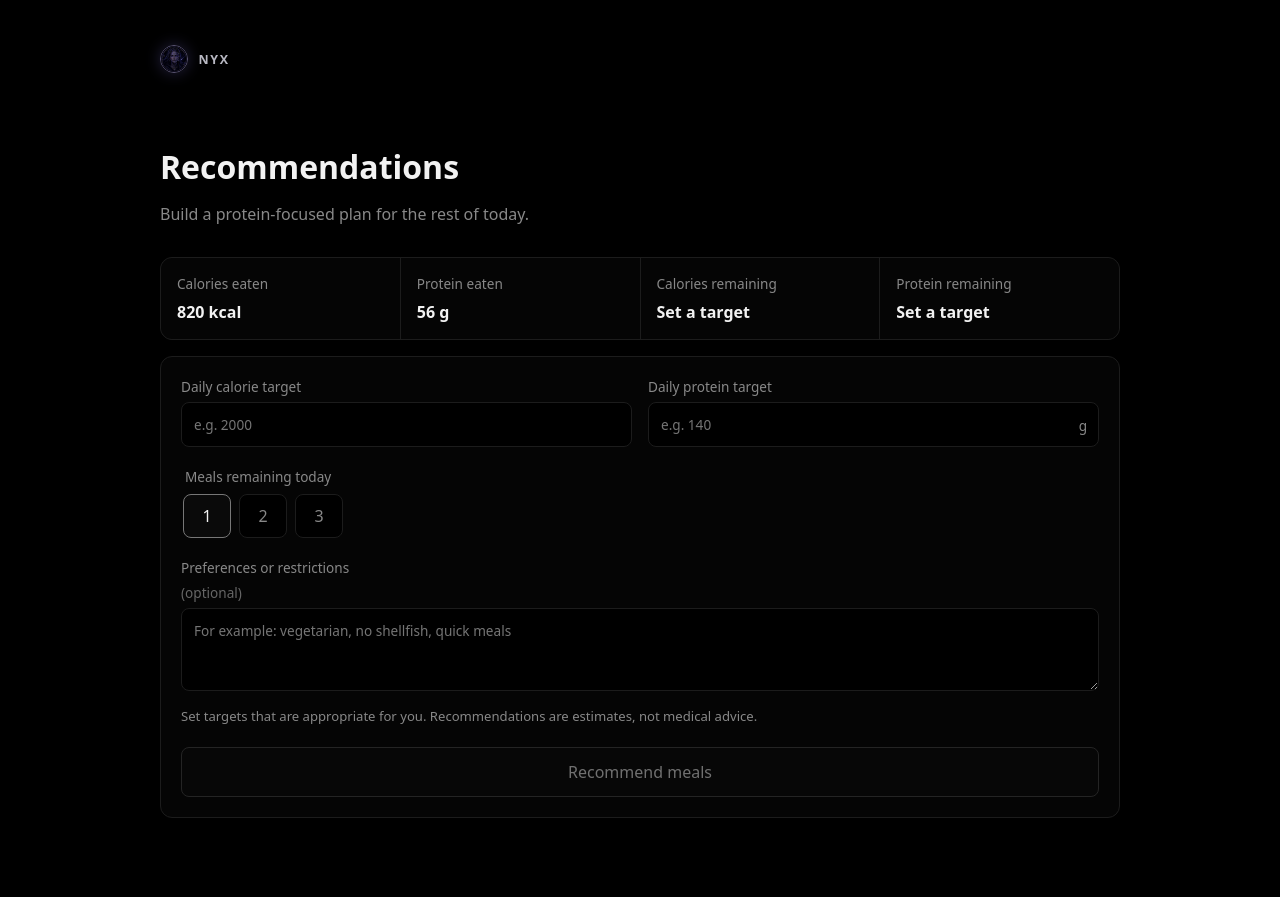
Test: RecommendationsPage › uses provider metadata for credential errors and links to Account
The image size is (1280, 897).
Expected: the text "820 kcal" is shown, x1=177 y1=301 x2=241 y2=323
Type "1800" into the number field labelled "Daily calorie target". click: {"x": 406, "y": 425}
box: x1=181 y1=402 x2=632 y2=447
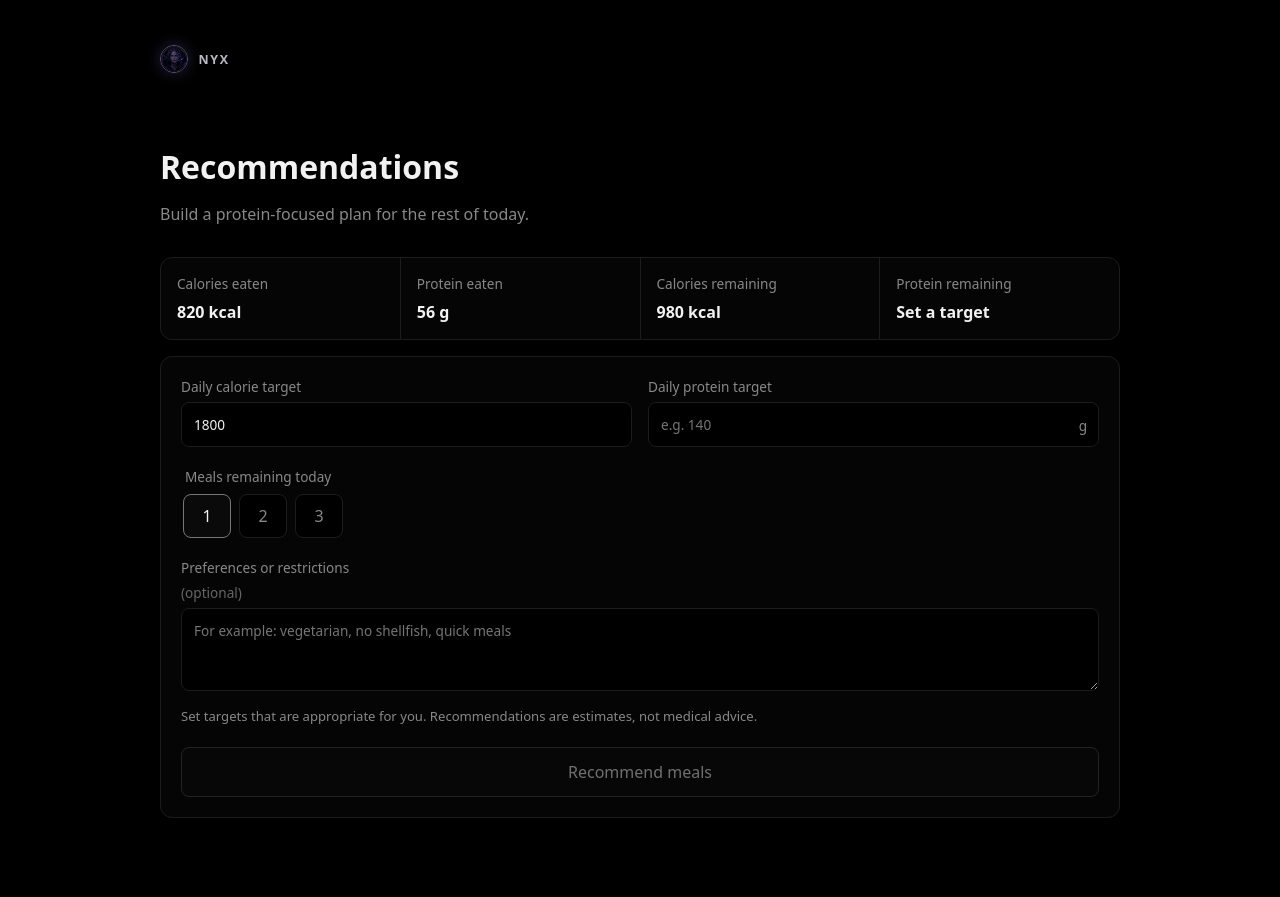
Type "140" into the number field labelled "Daily protein target g". click: {"x": 874, "y": 425}
box: x1=648 y1=402 x2=1099 y2=447
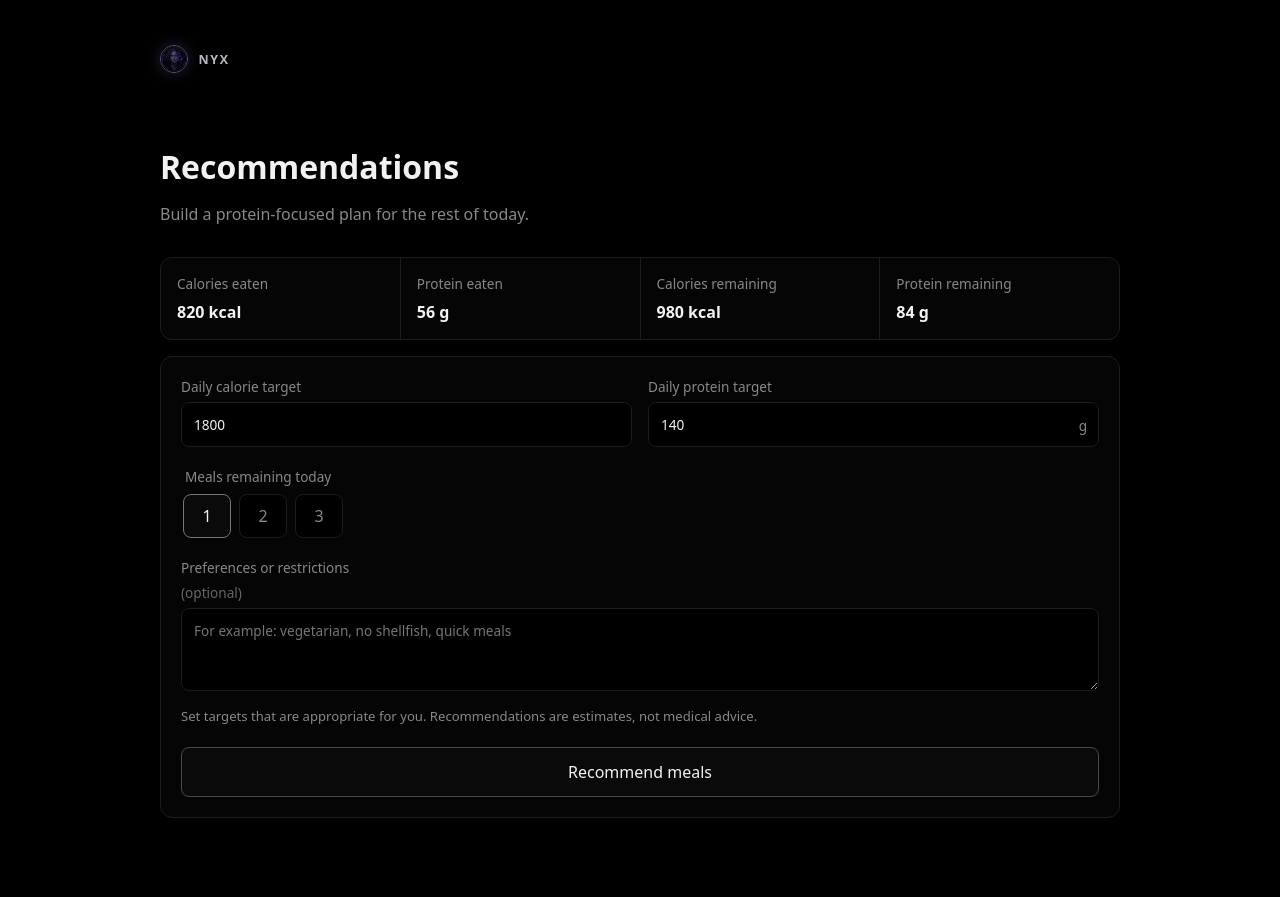
Click the button "Recommend meals". click: {"x": 640, "y": 772}
box: x1=181 y1=747 x2=1099 y2=797
(page scrolled)
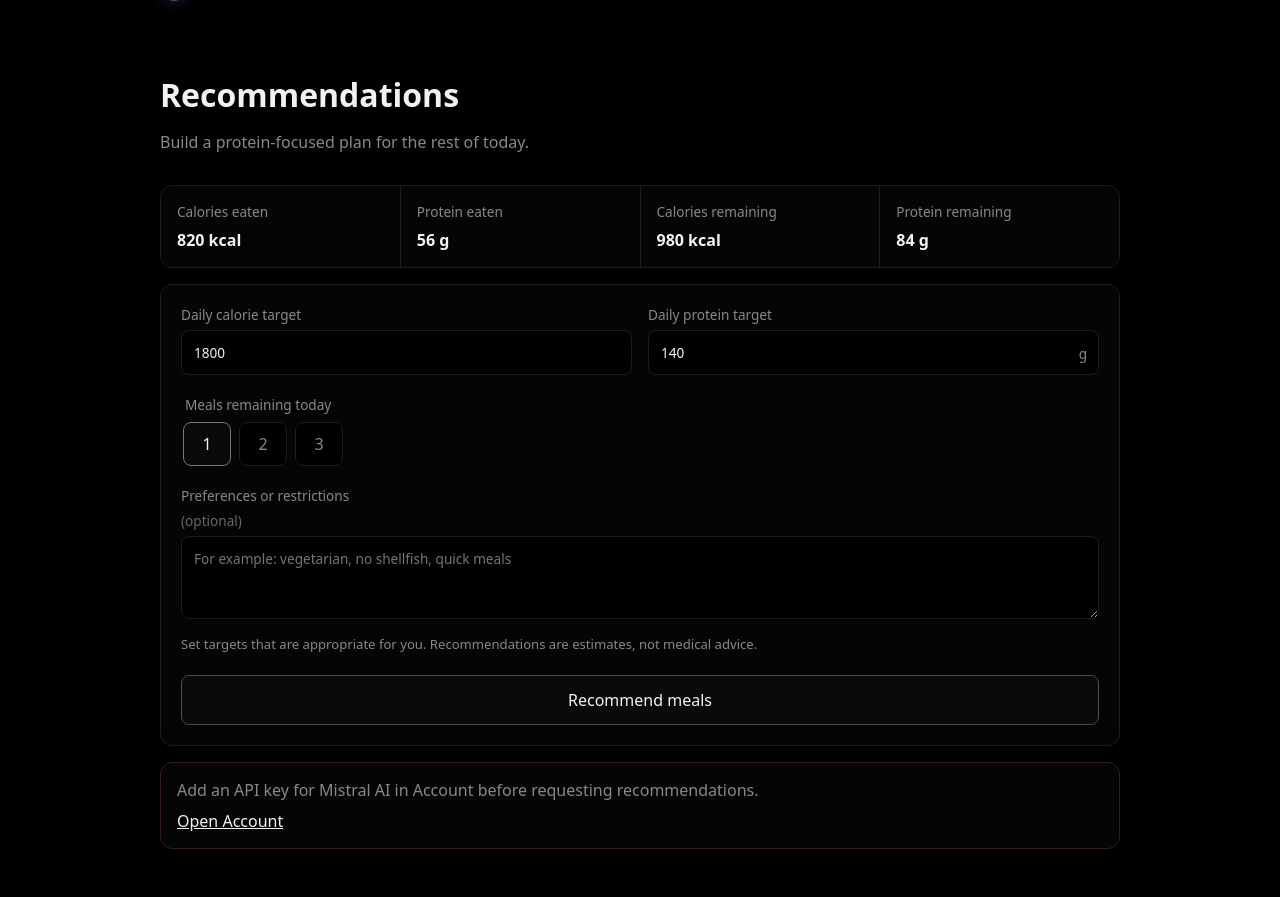
Result: the message shows "Add an API key for Mistral AI in Account before requesting recommendations." at x1=177 y1=779 x2=758 y2=801
